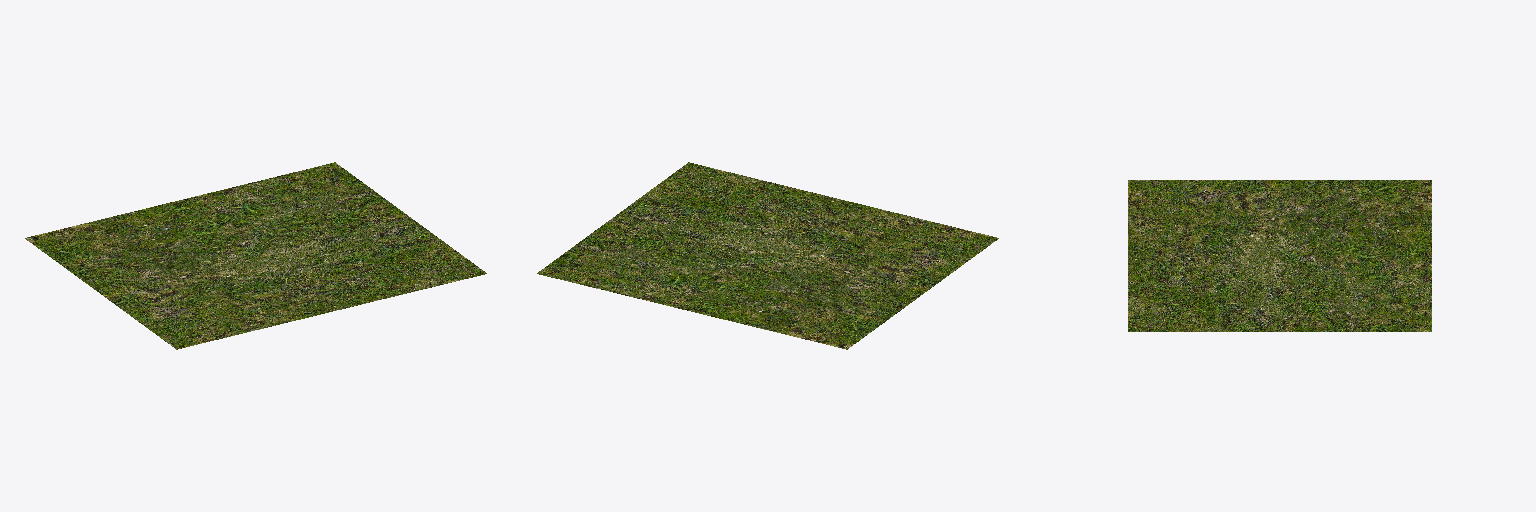
The picture shows the model from 3 angles: view 1: azimuth 30°, elevation 25°; view 2: azimuth 150°, elevation 25°; view 3: azimuth 270°, elevation 25°; orthographic projection.
Parts seen in each view (by area): view 1: Plane.001_Plane.002; view 2: Plane.001_Plane.002; view 3: Plane.001_Plane.002.
Boxes of the visible parts, <box> form: Plane.001_Plane.002: <box>25,162,486,349</box>; Plane.001_Plane.002: <box>537,162,998,349</box>; Plane.001_Plane.002: <box>1128,180,1431,331</box>.
Size of the model in its own units: 17.11 by 0 by 14.51.
1 materials, 1 textured.